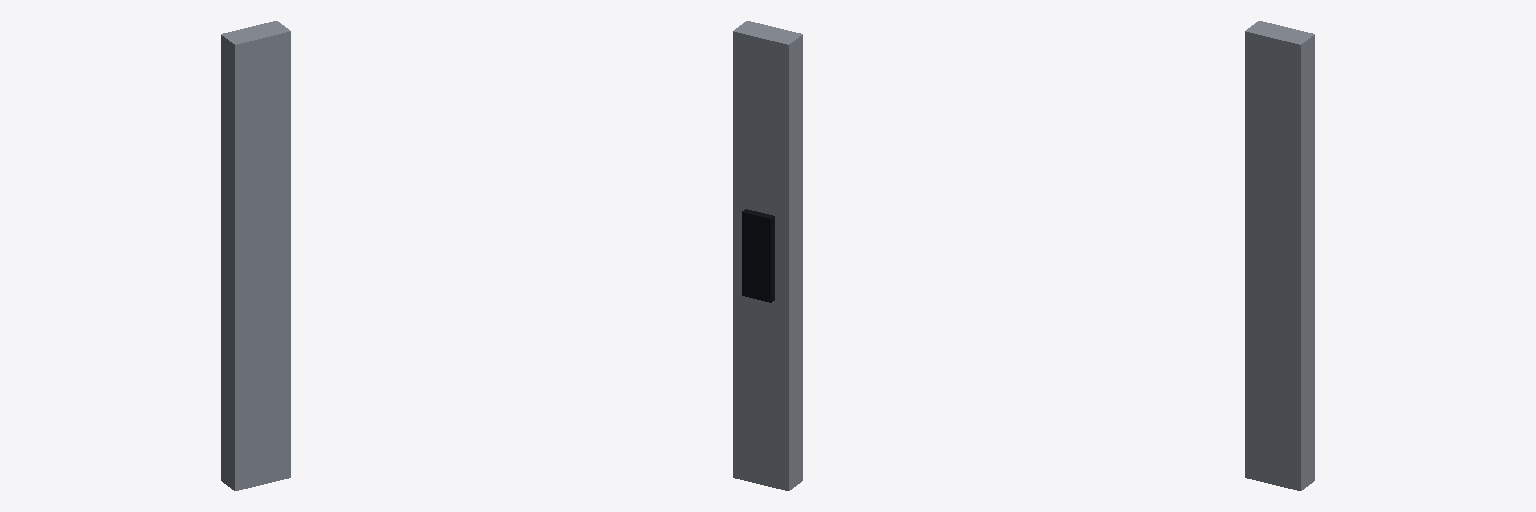
robot.urdf — artmanip_knife_026:
<?xml version='1.0' encoding='utf-8'?>
<robot name="artmanip_knife_026"><link name="link_0"><inertial><mass value="0.029" /><inertia ixx="5.3825010739392015e-05" iyy="5.456770863327201e-05" izz="1.1246594832361959e-06" ixy="0" ixz="0" iyz="0" /></inertial><visual><geometry><box size="0.01965578291907934 0.008889687043359207 0.14897446660841224" /></geometry><material name="link_0_color"><color rgba=".58 .60 .64 1" /></material></visual><collision><geometry><box size="0.01965578291907934 0.008889687043359207 0.14897446660841224" /></geometry></collision></link><link name="link_1"><inertial><mass value="0.006" /><inertia ixx="3.948466087797678e-07" iyy="4.4451152593190806e-07" izz="5.579395918170819e-08" ixy="0" ixz="0" iyz="0" /></inertial><visual><geometry><box size="0.010269317228221577 0.0024756902127624648 0.027992216338296037" /></geometry><material name="link_1_color"><color rgba=".12 .13 .15 1" /></material></visual><collision><geometry><box size="0.010269317228221577 0.0024756902127624648 0.027992216338296037" /></geometry></collision></link><joint name="slider" type="prismatic"><parent link="link_0" /><child link="link_1" /><origin xyz="0.0 0.005682688628060836 0.0023103074292538037" /><axis xyz="0 0 1" /><limit lower="-0.02465647742051564" upper="0.025343522579484364" effort="100" velocity="1" /><dynamics damping="1000" friction="0.001" /></joint></robot>

--- Facts derived from the render (not from the file) ---
Views: 3 orthographic renders of the robot side by side, from view 1: azimuth 30°, elevation 25°; view 2: azimuth 150°, elevation 25°; view 3: azimuth 330°, elevation 25°.
Robot: artmanip_knife_026 — 2 links, 1 joints (1 prismatic); root link link_0; default pose: all joints at 0.
Links seen in each view (by area): view 1: link_0; view 2: link_0, link_1; view 3: link_0.
Link boxes in pixels (box(x1,y1,x2,y2)): link_0: box(221, 21, 290, 490); link_0: box(733, 21, 802, 490); link_1: box(742, 209, 774, 302); link_0: box(1245, 21, 1314, 490).
Bounding box of the posed robot: 0.0197 × 0.0114 × 0.149 m (x, y, z).
Geometry: primitives only (box / cylinder / sphere), no mesh files.
